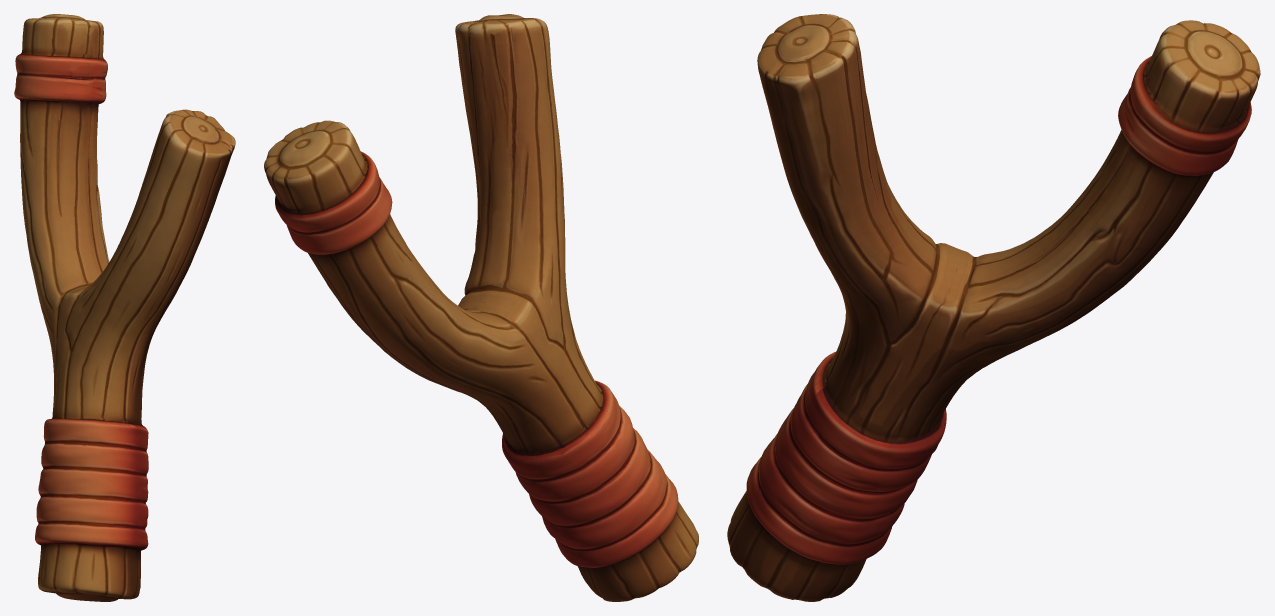
The model's file is gomera.fbx.
3 renders of one model, left to right at view 1: azimuth 30°, elevation 25°; view 2: azimuth 150°, elevation 25°; view 3: azimuth 270°, elevation 25°, orthographic. The views are drawn at different scales.
Visible parts, largest first — view 1: tripo_node_7f67a01b; view 2: tripo_node_7f67a01b; view 3: tripo_node_7f67a01b.
Boxes of the visible parts, box(x1,y1,x2,y2) form: tripo_node_7f67a01b: box(14, 14, 235, 601); tripo_node_7f67a01b: box(264, 14, 698, 601); tripo_node_7f67a01b: box(727, 14, 1260, 601).
Bounding box in the file's own units: 46.26 × 76.33 × 99.83.
Materials: 1 (1 with a texture image).
